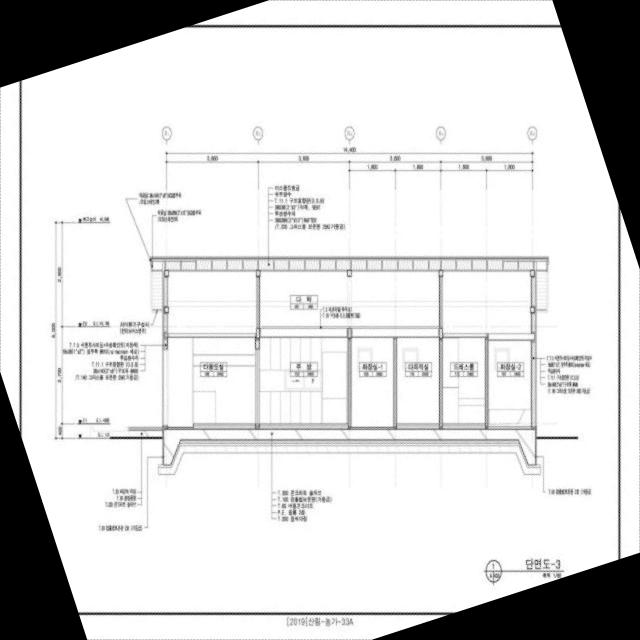background: (0, 0, 640, 640)
space_dressroom: (442, 337, 488, 429)
space_kitchen: (259, 337, 351, 429)
space_multipurpose_space: (168, 337, 256, 429), (396, 337, 442, 429)
space_other: (259, 260, 441, 328), (164, 260, 259, 334), (442, 260, 535, 334)
space_toilet: (488, 340, 535, 429), (351, 337, 396, 429)
